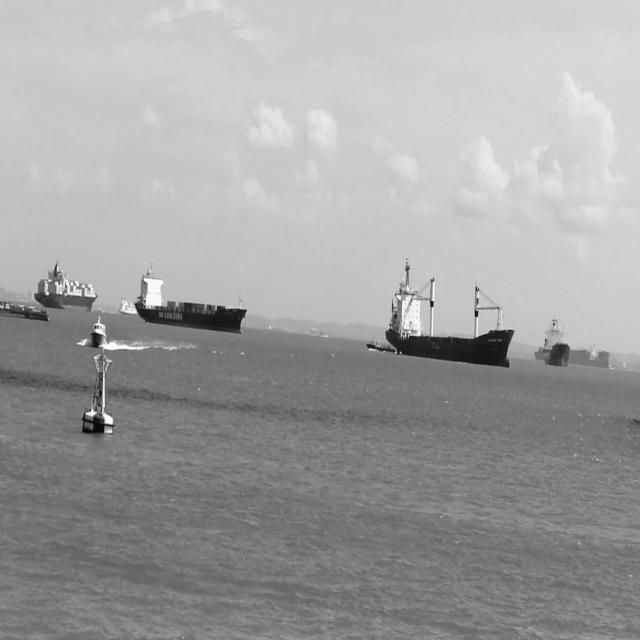buoy: (80, 350, 116, 434)
ship: (384, 256, 515, 370), (134, 262, 248, 336), (33, 258, 98, 313), (533, 343, 611, 369), (542, 314, 571, 369), (0, 299, 49, 323), (366, 334, 396, 354), (90, 316, 108, 348), (117, 298, 138, 316)
